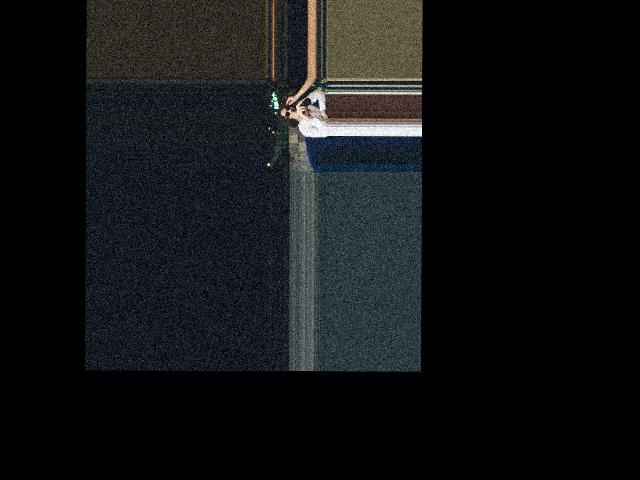beer: (292, 97, 312, 111)
